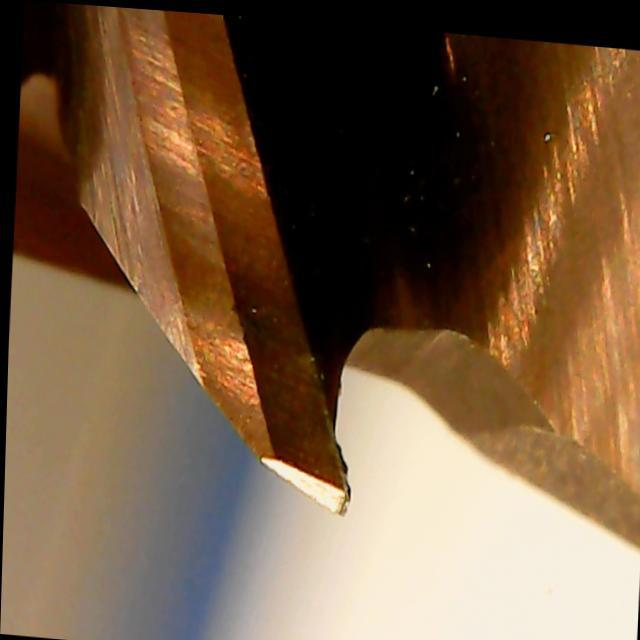Tool-wear-class-1: (214, 325, 369, 528)
